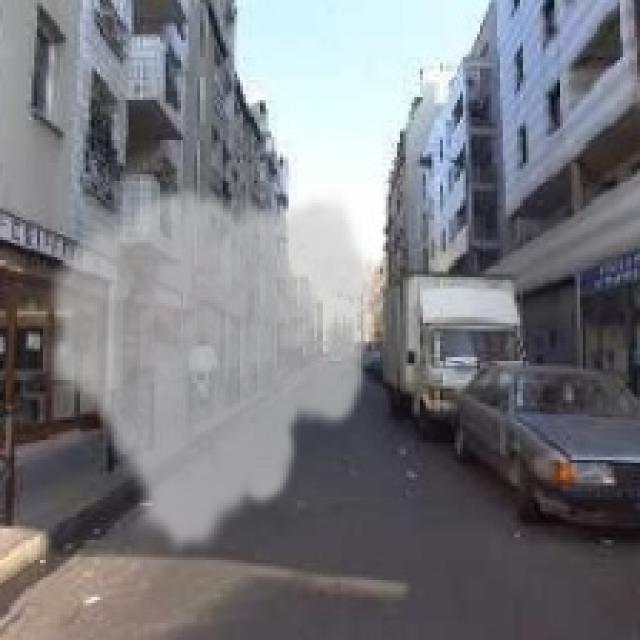Smoke: (37, 183, 380, 560)
